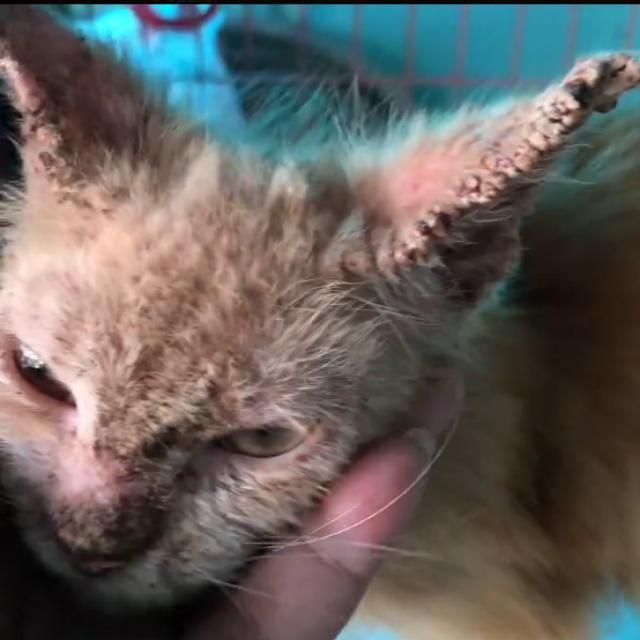cat-scabies: (339, 42, 640, 295), (3, 6, 157, 203)
